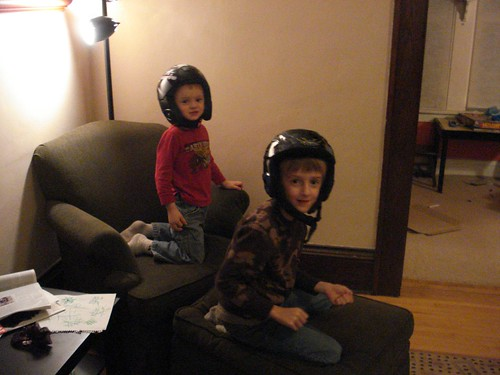helmet: (260, 117, 344, 215), (155, 57, 211, 126)
